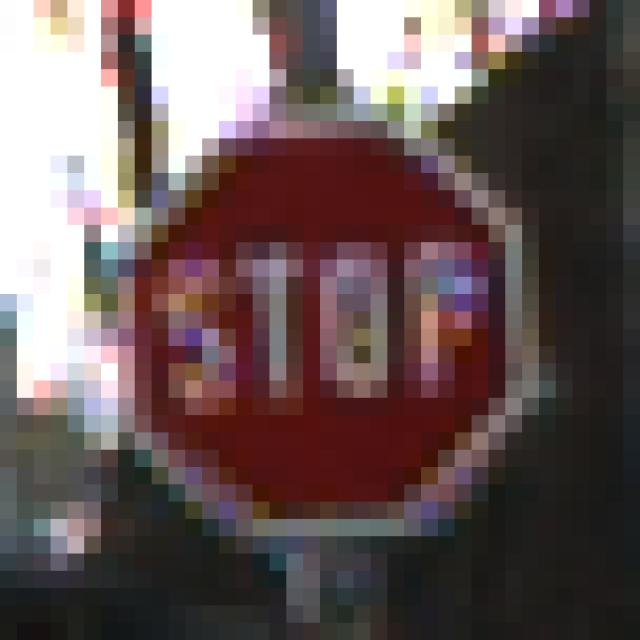STOP: (102, 88, 557, 555)
